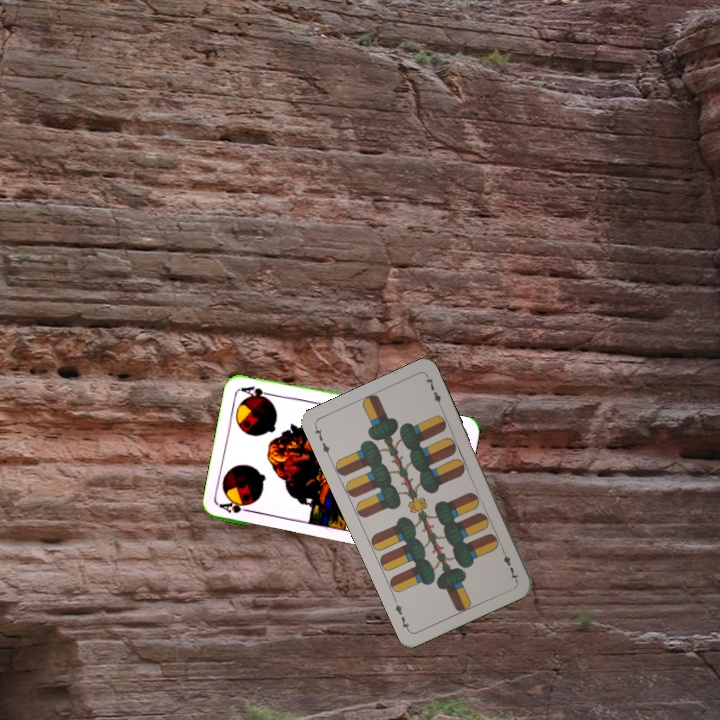E7: (310, 422, 333, 461), (498, 544, 520, 583)
SA: (216, 497, 256, 516)
